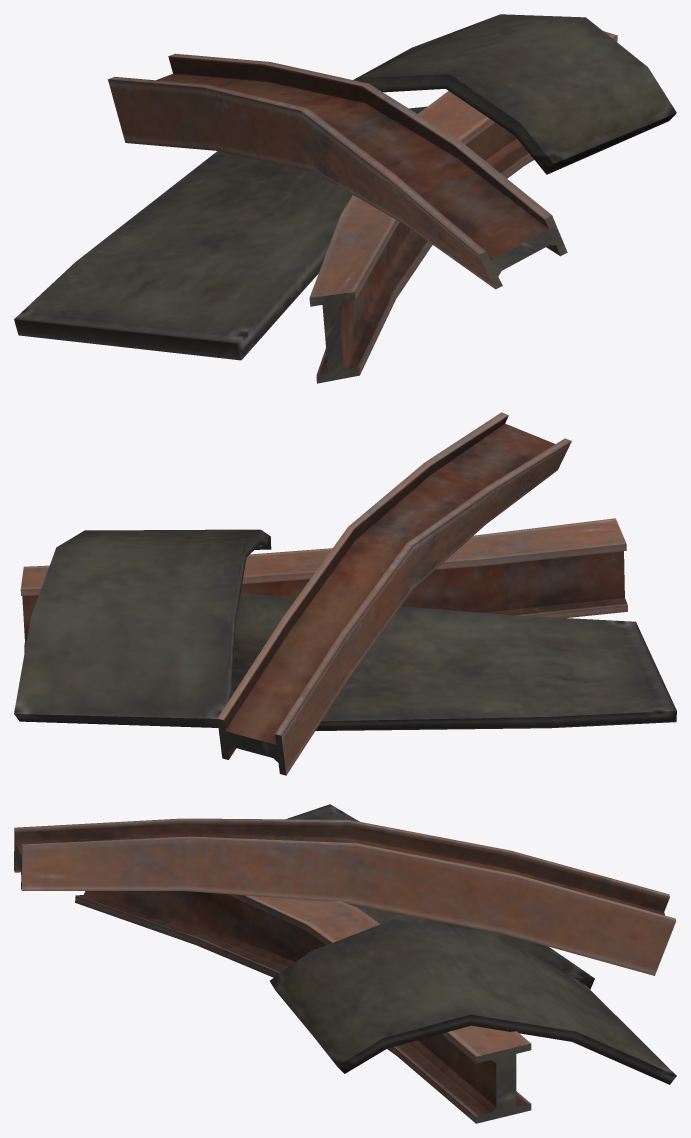
The model's file is communcations_dome_debris02.dae.
3 views of the same model, one above another, from view 1: azimuth 30°, elevation 25°; view 2: azimuth 150°, elevation 25°; view 3: azimuth 270°, elevation 25° (orthographic). The views are drawn at different scales.
Visible parts, largest first — view 1: polySurface705; view 2: polySurface705; view 3: polySurface705.
Part boxes in pixels (x1,y1,x2,y2): polySurface705: [14, 14, 676, 383]; polySurface705: [14, 412, 676, 775]; polySurface705: [14, 804, 676, 1123].
Size of the model in its own units: 2.21 by 0.5057 by 2.01.
